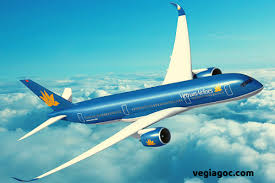maybay_dansu: (22, 14, 262, 182)
